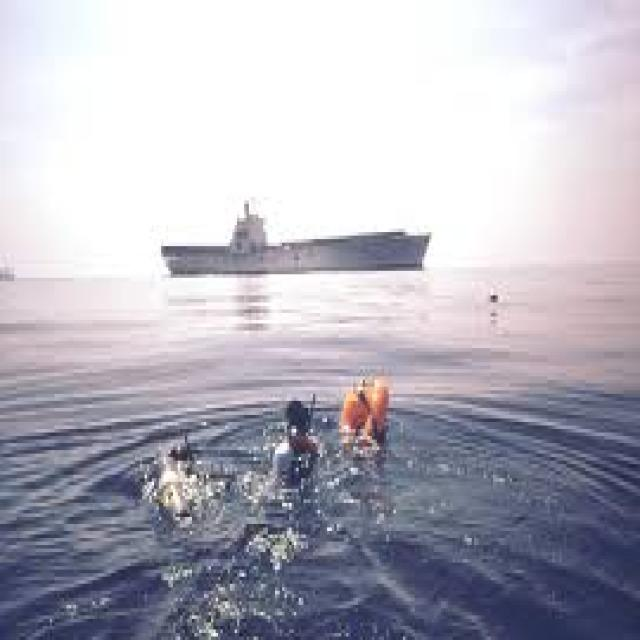navalvessels: (158, 196, 436, 279)
